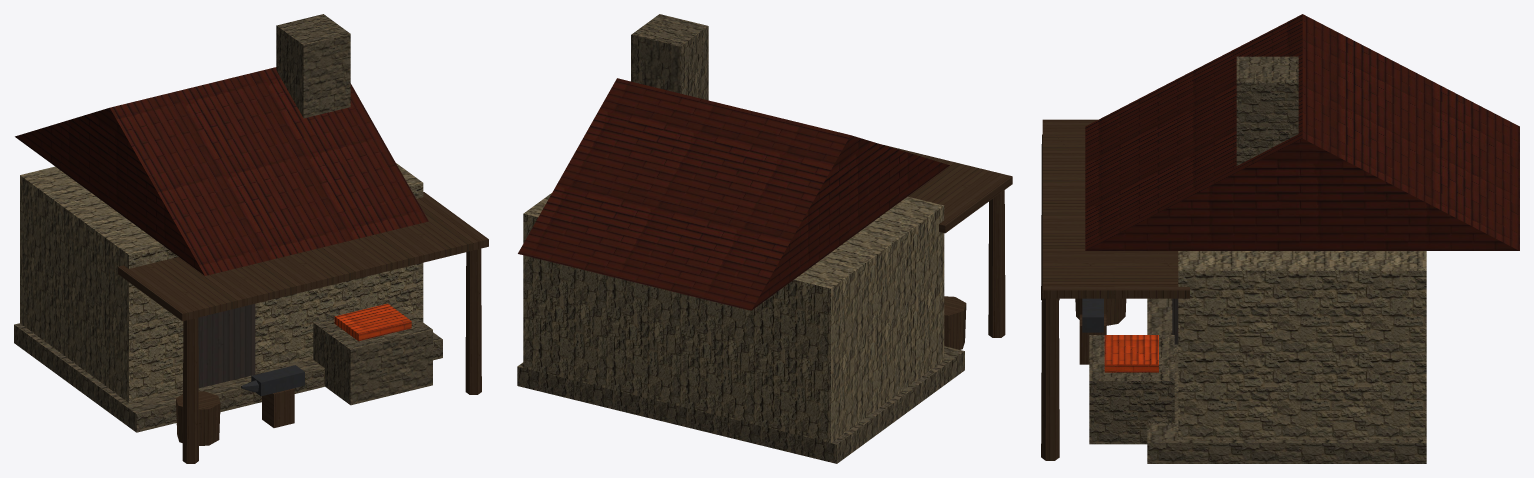
Rendered from smithy_01.glb.
The picture shows the model from 3 angles, left to right: view 1: azimuth 30°, elevation 25°; view 2: azimuth 150°, elevation 25°; view 3: azimuth 270°, elevation 25°; orthographic projection. The views are drawn at different scales.
Parts seen in each view (by area): view 1: smithy_01; view 2: smithy_01; view 3: smithy_01.
Part boxes in pixels (left/top/right/bottom): smithy_01: left=14, top=14, right=488, bottom=463; smithy_01: left=517, top=14, right=1012, bottom=463; smithy_01: left=1041, top=14, right=1519, bottom=463.
Size of the model in its own units: 5.2 by 5 by 6.17.
Materials: 7 (7 with a texture image).
